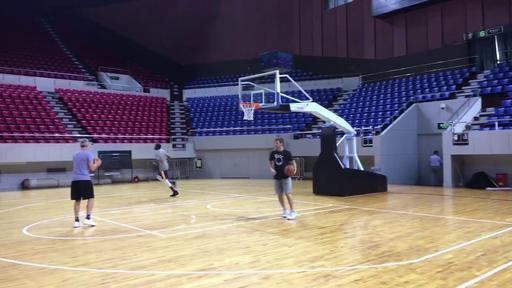ball: (284, 165, 295, 176), (94, 157, 100, 164)
human: (70, 138, 102, 228), (268, 138, 298, 220), (152, 143, 180, 197), (428, 150, 443, 186)
rim: (240, 102, 260, 120)
